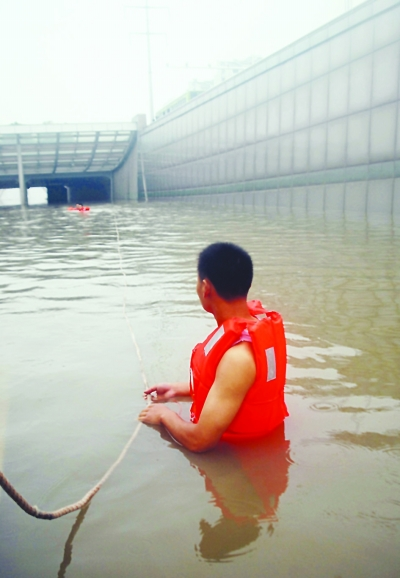reflective_clothes: (180, 296, 294, 439)
